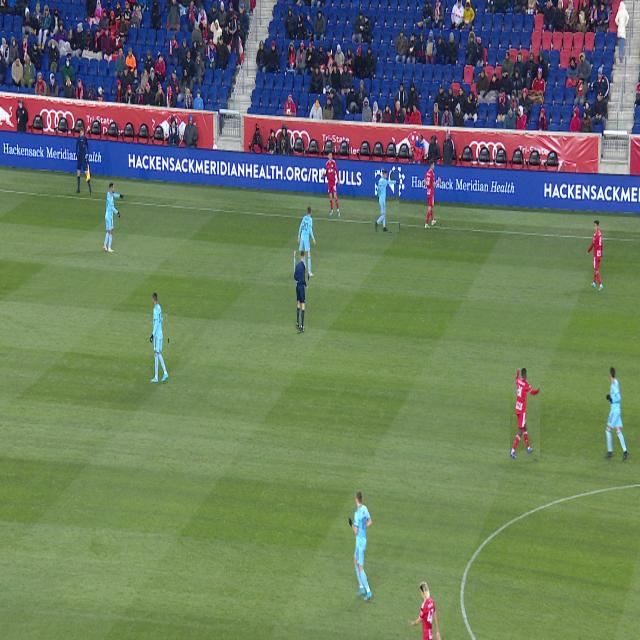player: (510, 368, 540, 459), (349, 490, 372, 600), (604, 367, 629, 461), (407, 581, 441, 640), (151, 293, 168, 383), (376, 170, 399, 232), (103, 183, 123, 252), (298, 206, 316, 276), (587, 220, 603, 291), (425, 160, 440, 228), (87, 179, 92, 196), (297, 256, 300, 273)
referee: (295, 251, 308, 331)
